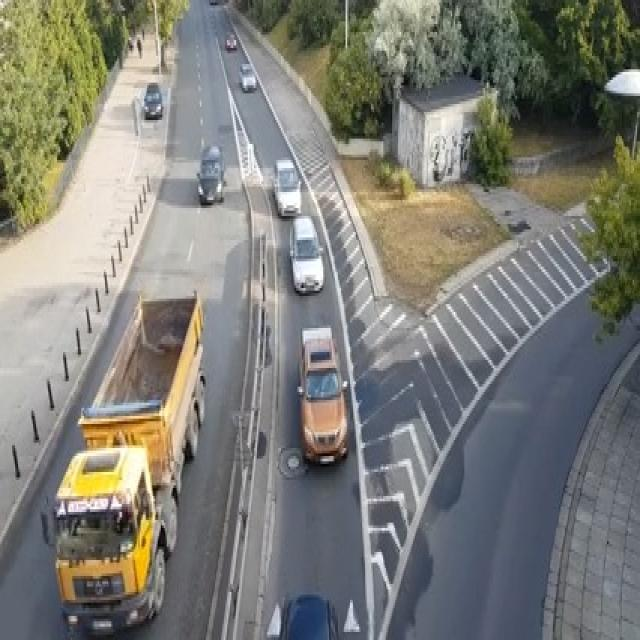car: (296, 325, 349, 464), (264, 592, 340, 637), (288, 214, 324, 294), (196, 144, 226, 203), (272, 157, 300, 216), (143, 80, 162, 117), (239, 61, 255, 91), (225, 32, 236, 51), (128, 35, 132, 48), (209, 0, 218, 5)
truck: (76, 285, 206, 555)
